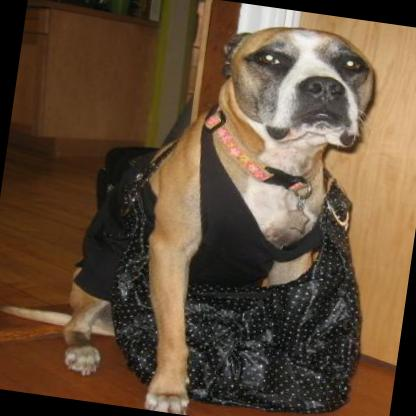boxer: (0, 0, 400, 416)
